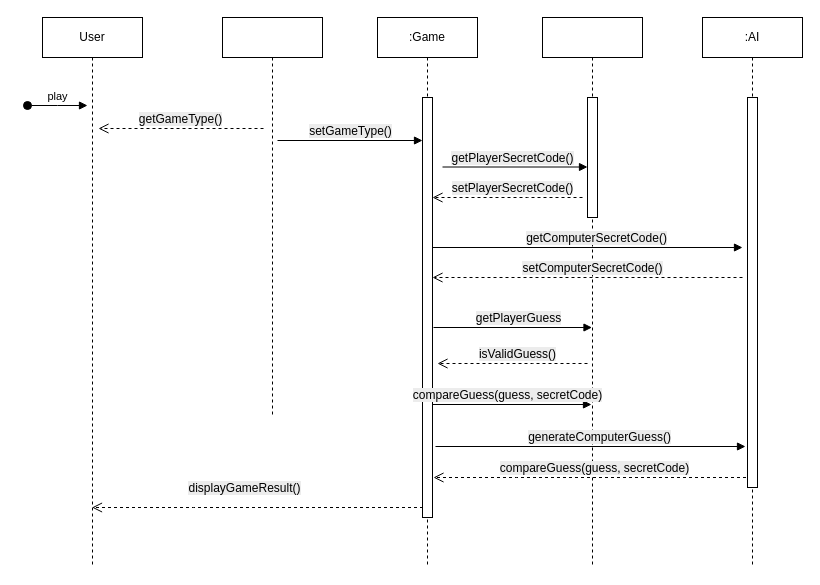
The diagram is 820 pixels wide and 585 high, and some of its shapes have lost their labels. Here are the shapes that lost their labels. From the top down, the box of each, then its label:
(222, 16, 322, 418): :PlayGame
(542, 16, 642, 568): :Player
